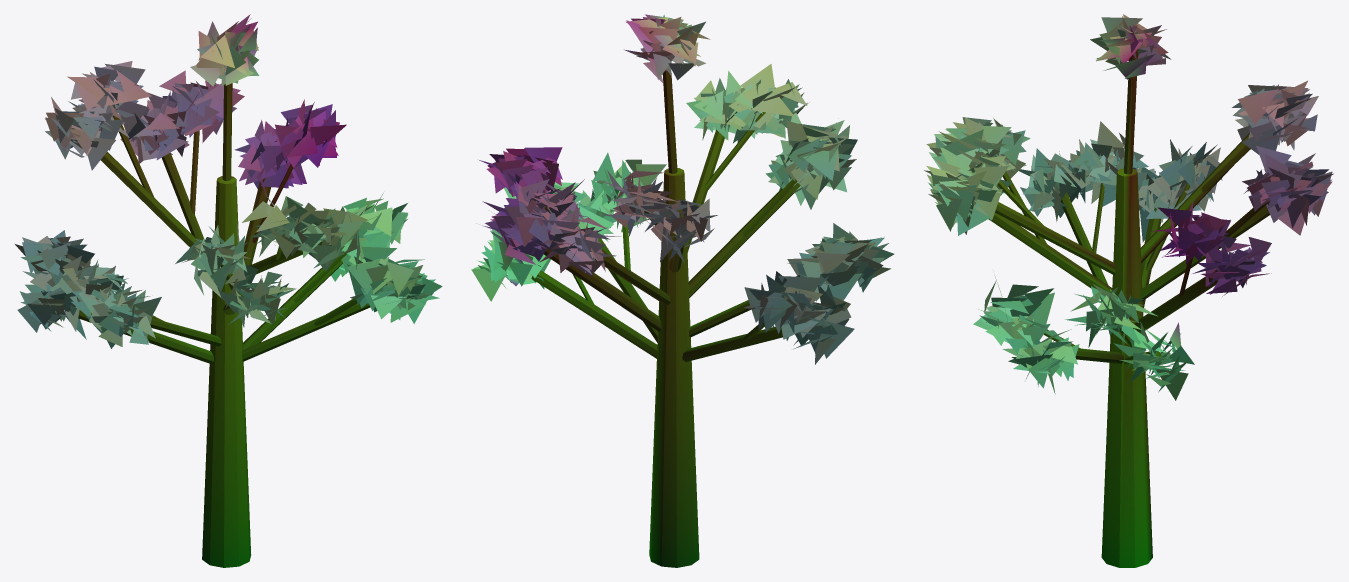
File: ecological_broadleaf_established_02.glb
The picture shows the model from 3 angles, left to right: view 1: azimuth 30°, elevation 25°; view 2: azimuth 150°, elevation 25°; view 3: azimuth 270°, elevation 25°; orthographic projection. The views are drawn at different scales.
Visible parts, largest first — view 1: ecological_broadleaf_established_02; view 2: ecological_broadleaf_established_02; view 3: ecological_broadleaf_established_02.
Part boxes in pixels (x1,y1,x2,y2): ecological_broadleaf_established_02: (15, 14, 442, 567); ecological_broadleaf_established_02: (471, 14, 894, 567); ecological_broadleaf_established_02: (924, 14, 1333, 567).
Bounding box in the file's own units: 12.18 × 16.69 × 11.53.
